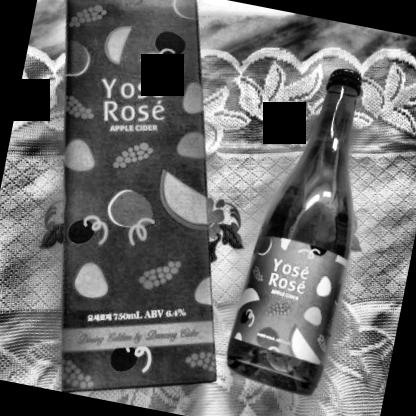yoserose: (234, 236, 352, 356)
